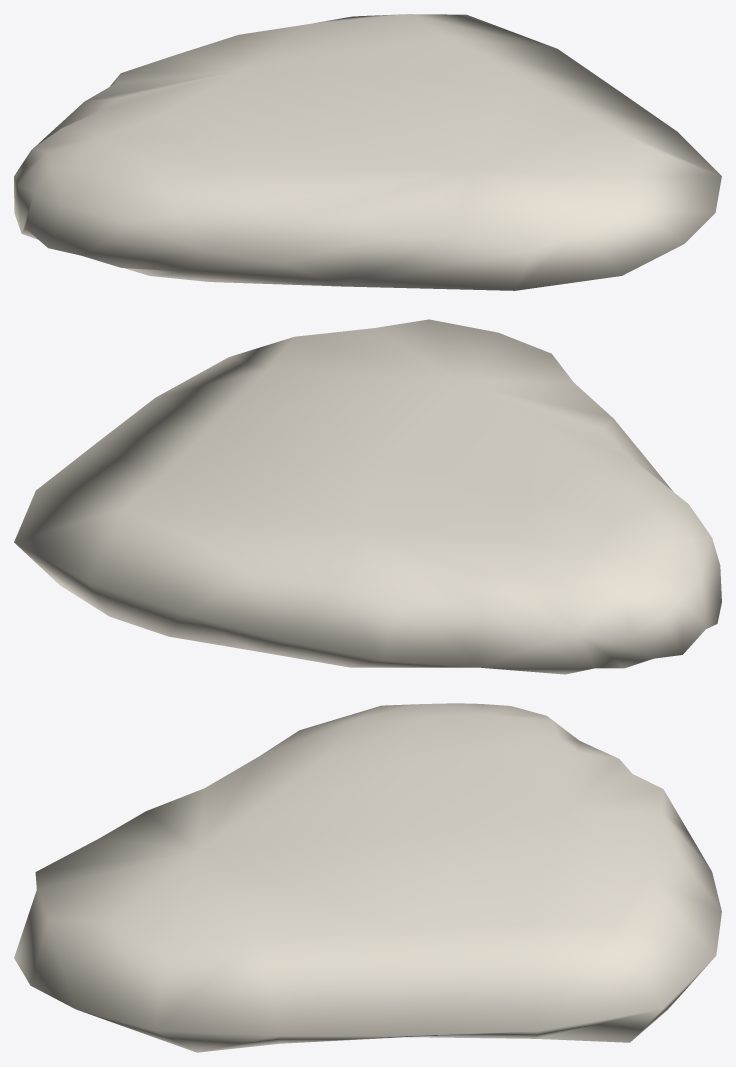
The model's file is Iceberg.001.fbx.
3 views of the same model, one above another, from view 1: azimuth 30°, elevation 25°; view 2: azimuth 150°, elevation 25°; view 3: azimuth 270°, elevation 25° (orthographic). The views are drawn at different scales.
Parts seen in each view (by area): view 1: Iceberg.001; view 2: Iceberg.001; view 3: Iceberg.001.
Part boxes in pixels (box(x1,y1,x2,y2)): Iceberg.001: box(14, 14, 721, 290); Iceberg.001: box(14, 319, 721, 674); Iceberg.001: box(14, 703, 721, 1052).
Bounding box in the file's own units: 6.21 × 5.84 × 1.05.
